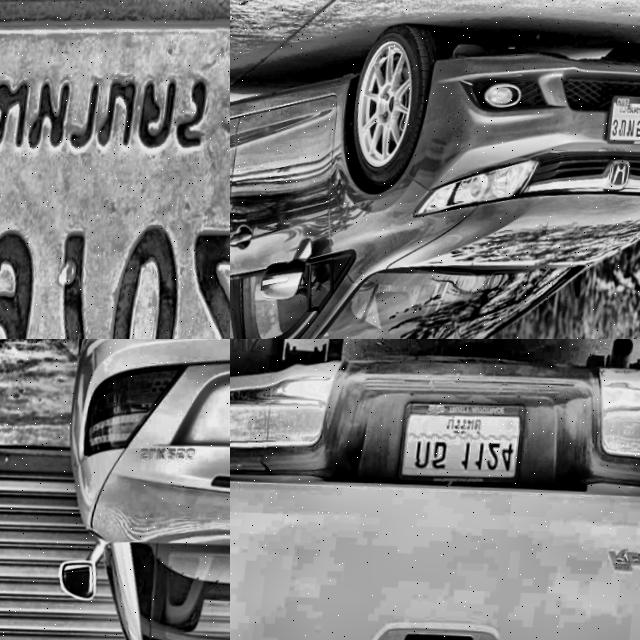license-plate: (0, 0, 230, 339), (399, 400, 532, 486), (602, 79, 640, 149)
